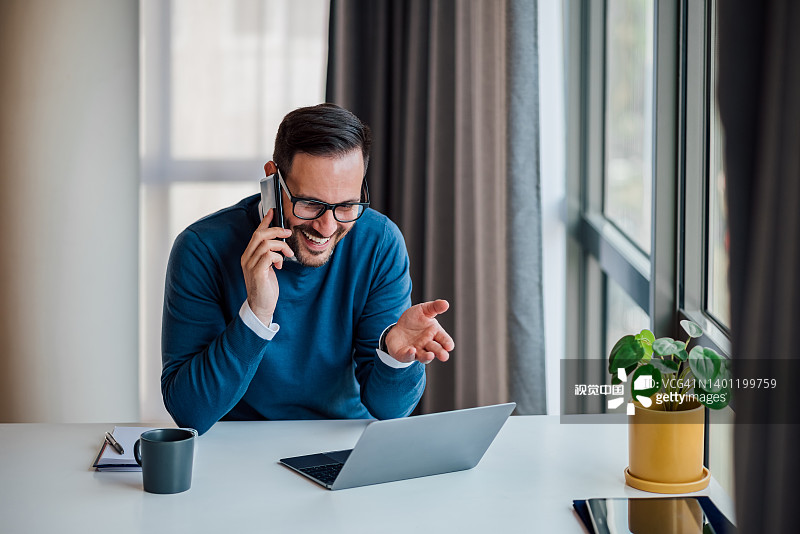calling: (227, 178, 311, 335)
no-phone: (367, 288, 478, 384)
